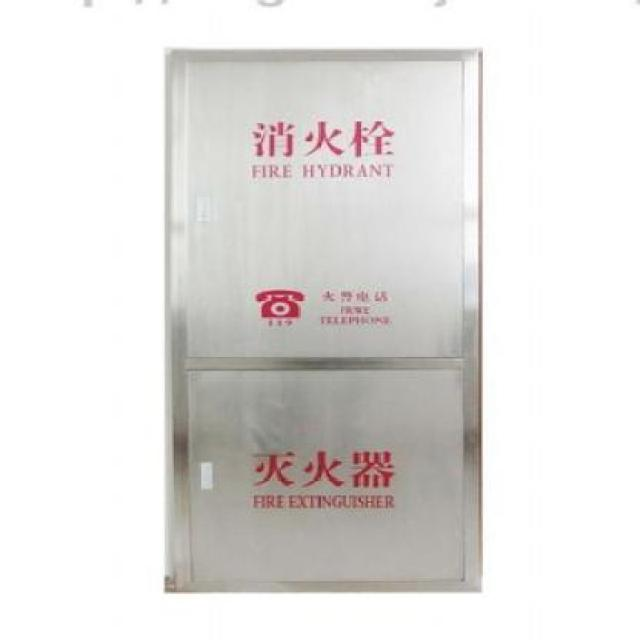firehydrant: (156, 42, 492, 600)
